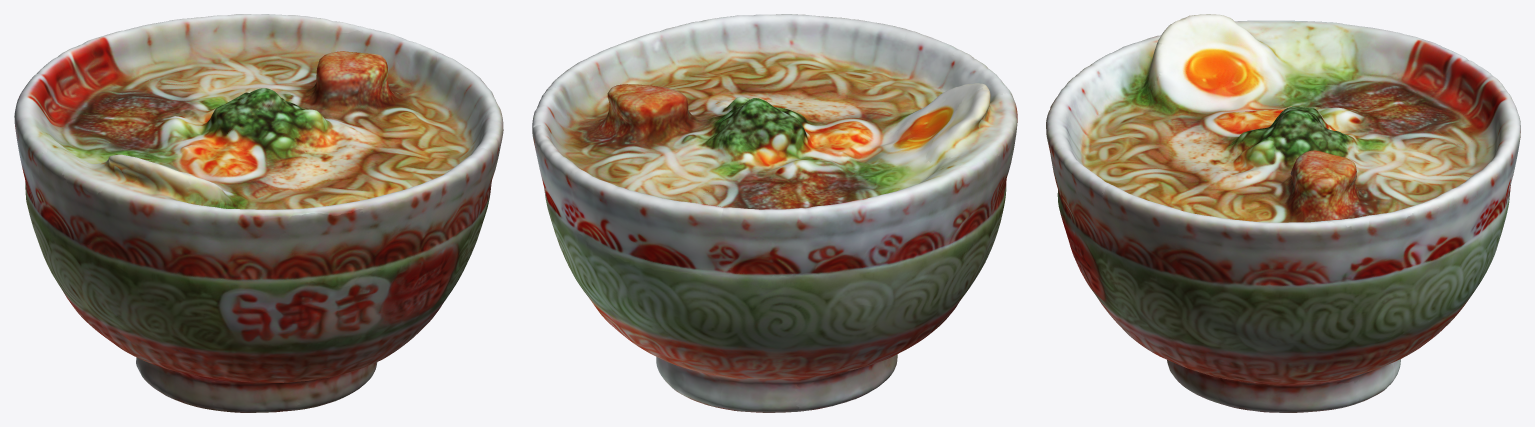
File: ramen_bowl.glb
3 views of the same model, side by side, from view 1: azimuth 30°, elevation 25°; view 2: azimuth 150°, elevation 25°; view 3: azimuth 270°, elevation 25° (orthographic). The views are drawn at different scales.
Visible parts, largest first — view 1: geometry_0; view 2: geometry_0; view 3: geometry_0.
Boxes of the visible parts, bbox=[...] form: geometry_0: bbox=[14, 14, 503, 412]; geometry_0: bbox=[532, 14, 1017, 412]; geometry_0: bbox=[1046, 14, 1520, 412].
Size of the model in its own units: 0.7419 by 0.4808 by 0.7417.
1 material, 1 textured.
